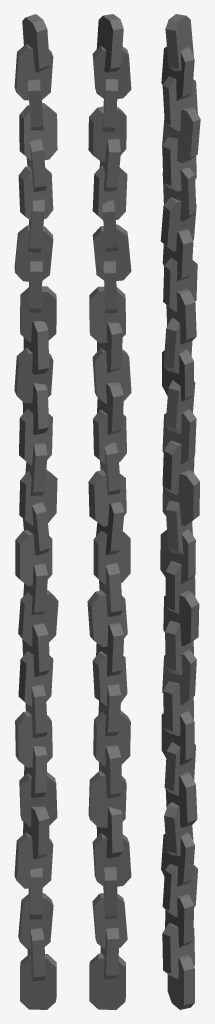
File: SM_Gen_Prop_Chain_01.glb
3 renders of one model, left to right at view 1: azimuth 30°, elevation 25°; view 2: azimuth 210°, elevation 25°; view 3: azimuth 330°, elevation 25°, orthographic.
Visible parts, largest first — view 1: SM_Gen_Prop_Chain_01; view 2: SM_Gen_Prop_Chain_01; view 3: SM_Gen_Prop_Chain_01.
Boxes of the visible parts, left/top/right/bottom form: SM_Gen_Prop_Chain_01: left=14, top=14, right=58, bottom=1009; SM_Gen_Prop_Chain_01: left=87, top=14, right=131, bottom=1009; SM_Gen_Prop_Chain_01: left=160, top=14, right=200, bottom=1009.
Bounding box in the file's own units: 0.0924 × 2.29 × 0.0807.
Materials: 1 (1 with a texture image).
